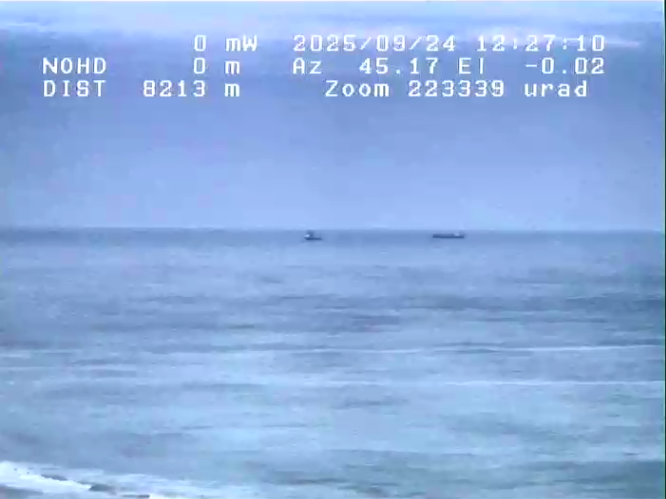OFFSHORE_SUPPLY_VESSEL: (298, 223, 334, 249)
TANKER: (429, 224, 473, 249)
